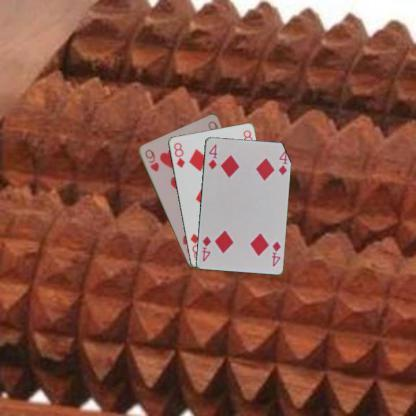4d: (269, 238, 282, 268), (206, 142, 218, 170)
8d: (171, 140, 186, 169)
9h: (142, 147, 160, 173)
